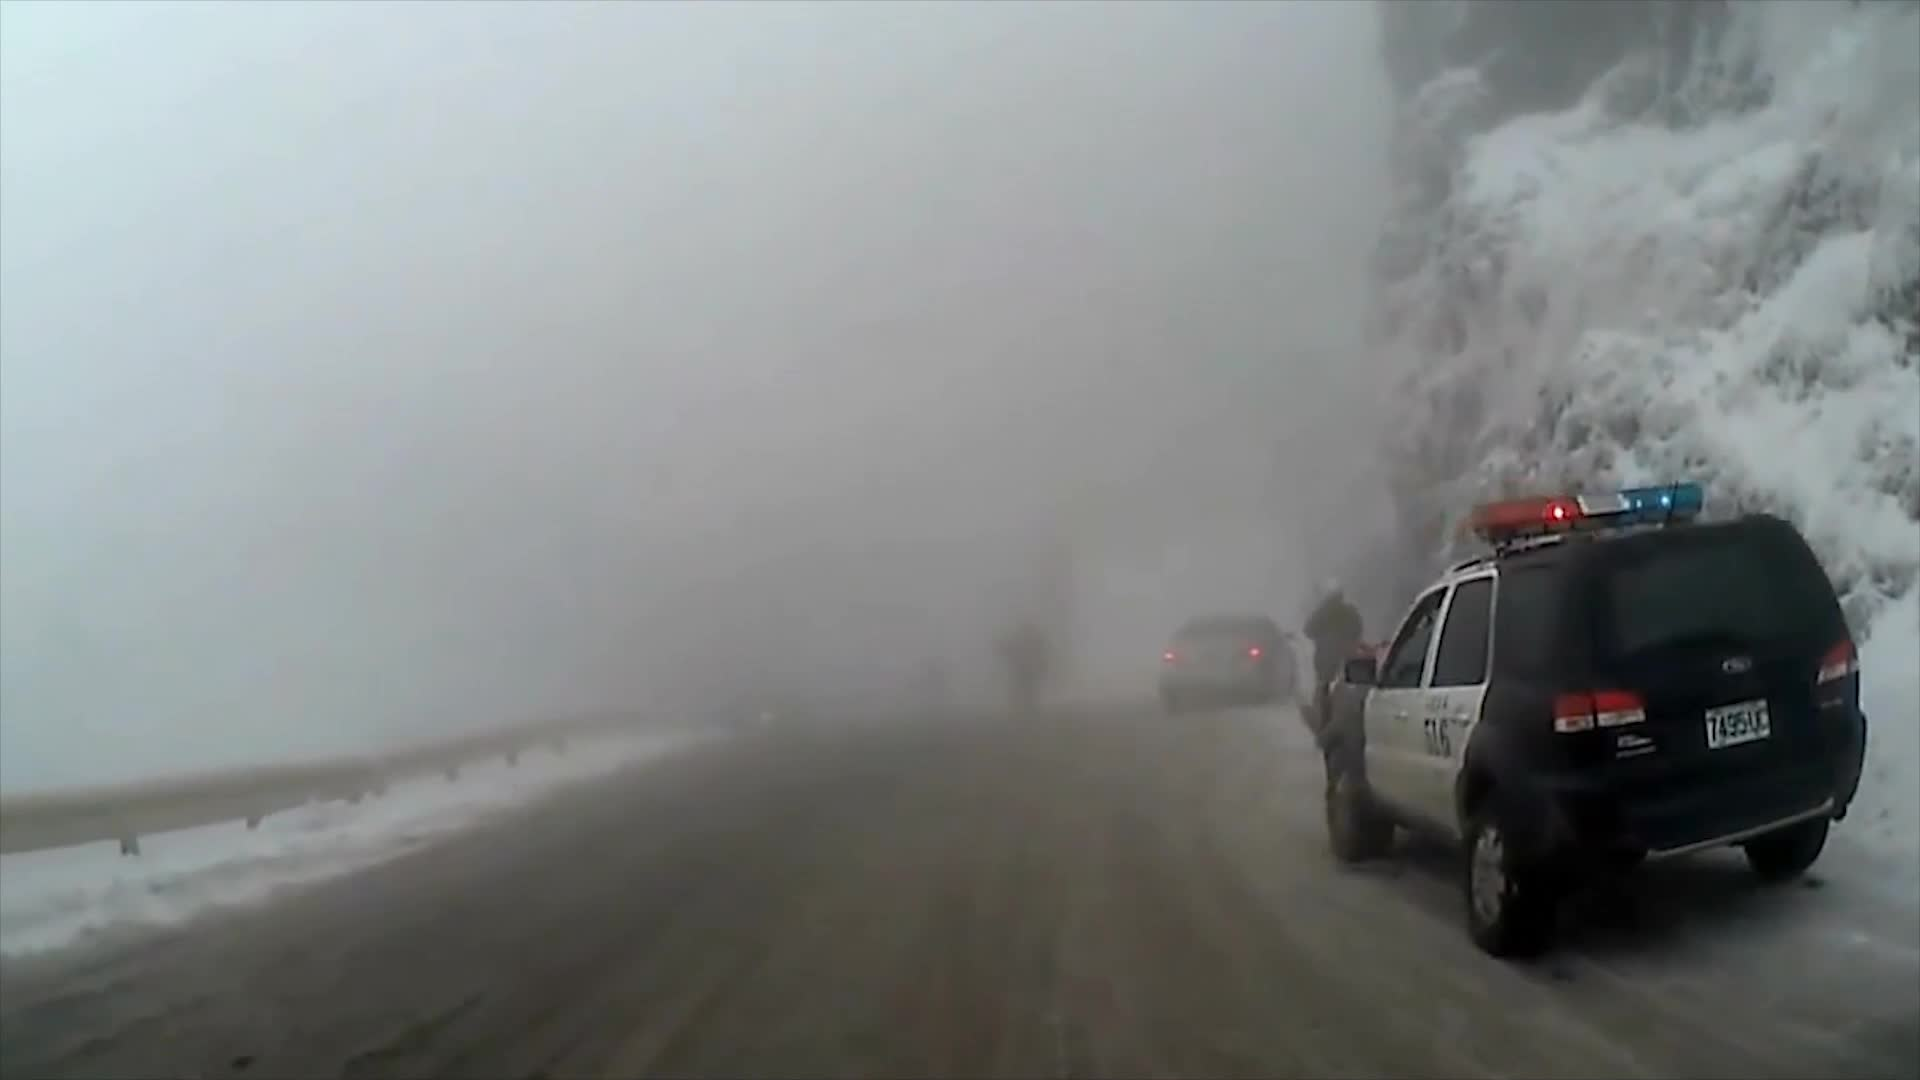pedestrian: (1300, 580, 1374, 743)
vehicle: (1318, 479, 1870, 956), (1156, 613, 1297, 713)
